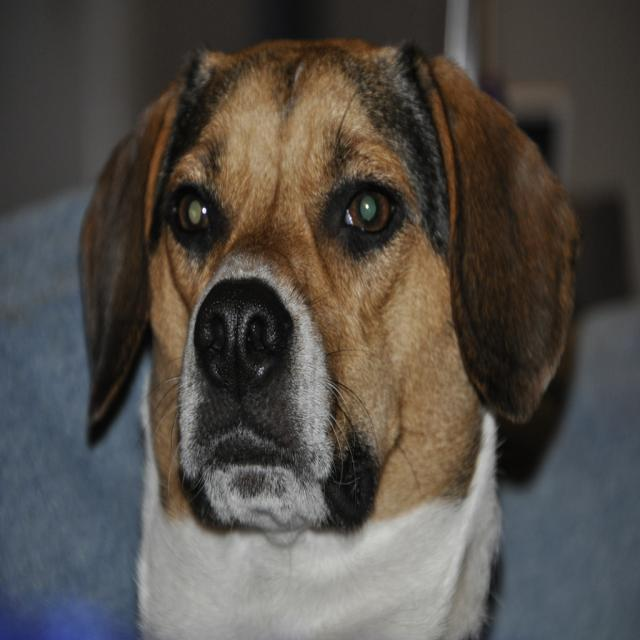Dog: (75, 41, 586, 638)
